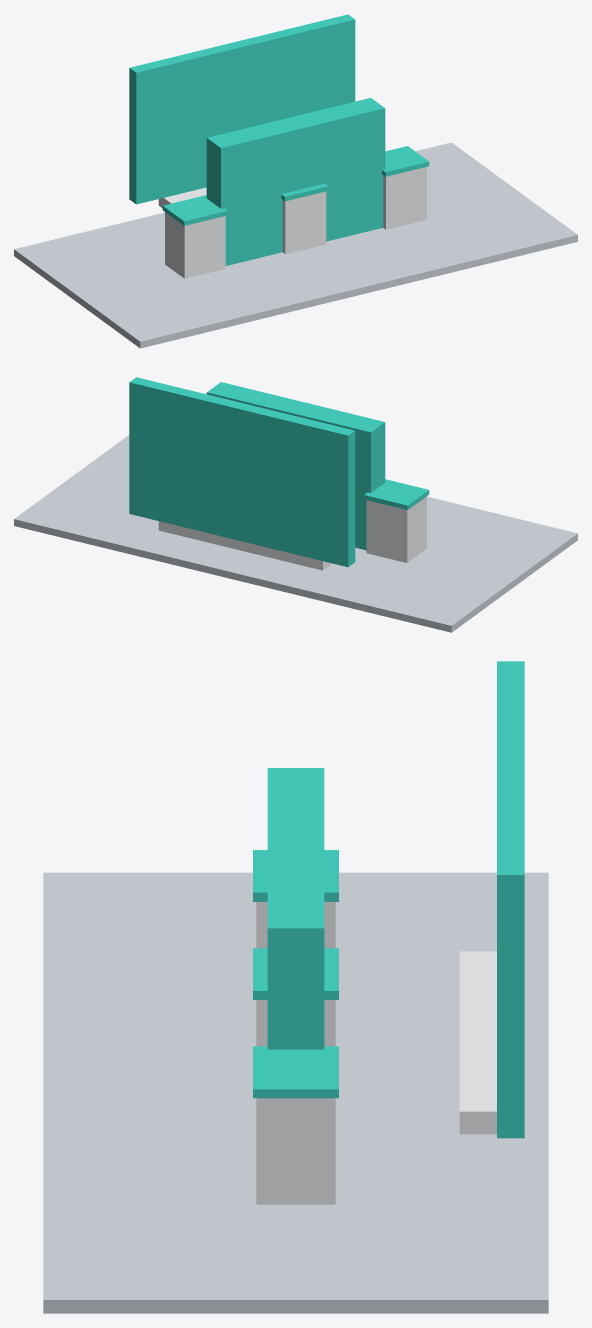
3 views of the same model, one above another, from view 1: azimuth 30°, elevation 25°; view 2: azimuth 150°, elevation 25°; view 3: azimuth 270°, elevation 25° (orthographic). The views are drawn at different scales.
Parts seen in each view (by area): view 1: Exhibition Booth Concept; view 2: Exhibition Booth Concept; view 3: Exhibition Booth Concept.
Part boxes in pixels (x1,y1,x2,y2): Exhibition Booth Concept: (14,14,577,348); Exhibition Booth Concept: (14,377,577,632); Exhibition Booth Concept: (43,661,548,1313).
Bounding box in the file's own units: 8 × 2.9 × 4.
